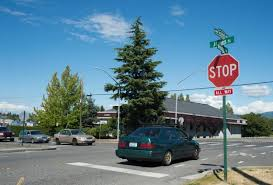stop: (207, 54, 240, 88)
